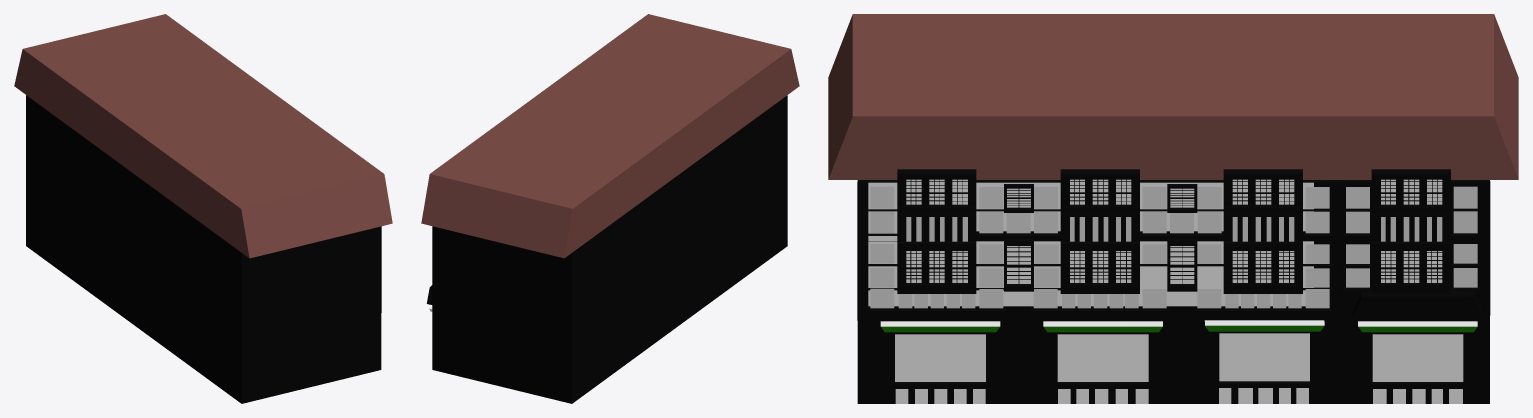
The picture shows the model from 3 angles, left to right: view 1: azimuth 30°, elevation 25°; view 2: azimuth 150°, elevation 25°; view 3: azimuth 270°, elevation 25°; orthographic projection. The views are drawn at different scales.
Visible parts, largest first — view 1: Hjewelers; view 2: Hjewelers; view 3: Hjewelers.
Boxes of the visible parts, bbox=[...] form: Hjewelers: bbox=[14, 14, 392, 403]; Hjewelers: bbox=[421, 14, 799, 403]; Hjewelers: bbox=[828, 14, 1518, 403].
Bounding box in the file's own units: 46.01 × 57.56 × 125.
